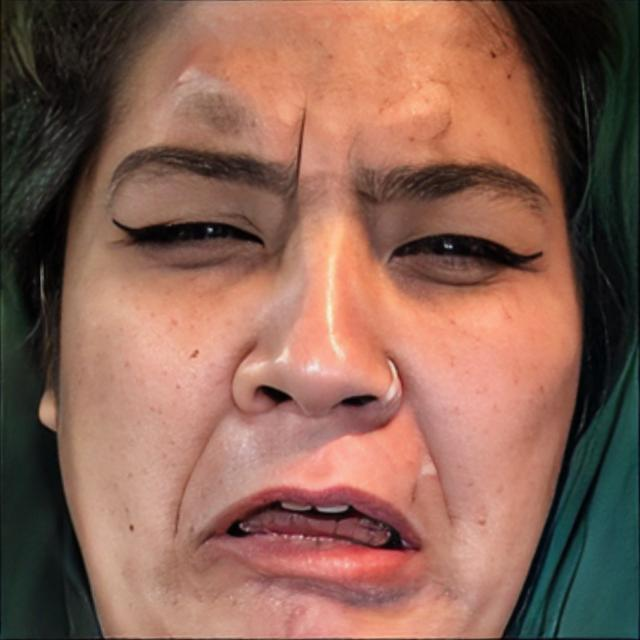disgust: (54, 0, 580, 640)
